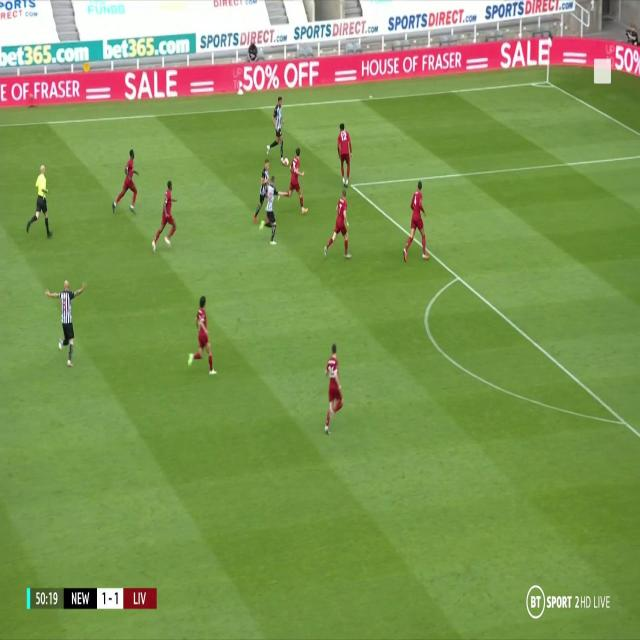ball: (282, 155, 290, 167)
player: (48, 277, 85, 365), (186, 293, 218, 378), (402, 180, 431, 266), (322, 340, 346, 437), (323, 188, 353, 262), (26, 165, 54, 242), (150, 179, 178, 252), (112, 149, 140, 215), (266, 92, 289, 163), (284, 147, 308, 214), (260, 174, 281, 247), (254, 160, 274, 227), (335, 122, 353, 190)
